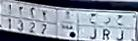1: (7, 4, 14, 30)
2: (40, 8, 48, 36), (28, 6, 36, 33)
3: (17, 5, 25, 32)
J: (87, 11, 98, 40), (115, 12, 125, 41)
R: (102, 15, 111, 41)
